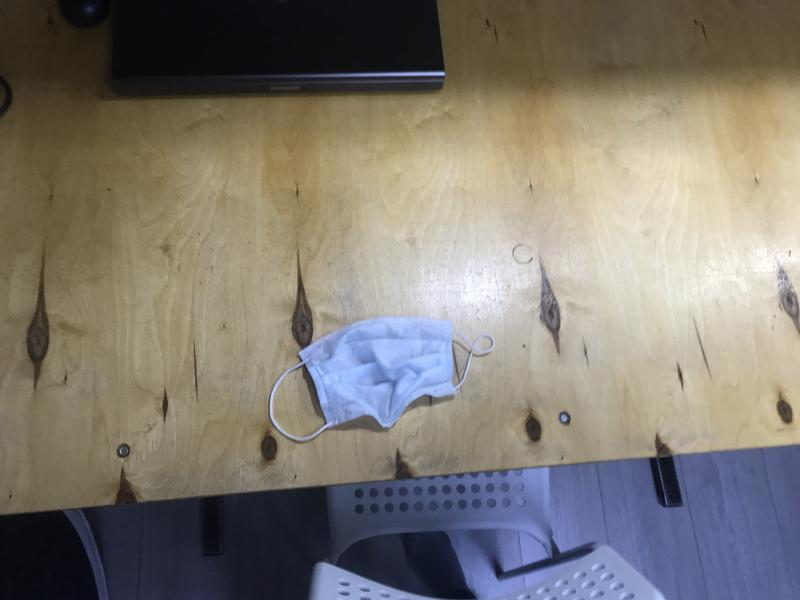medical_mask: (270, 318, 495, 439)
